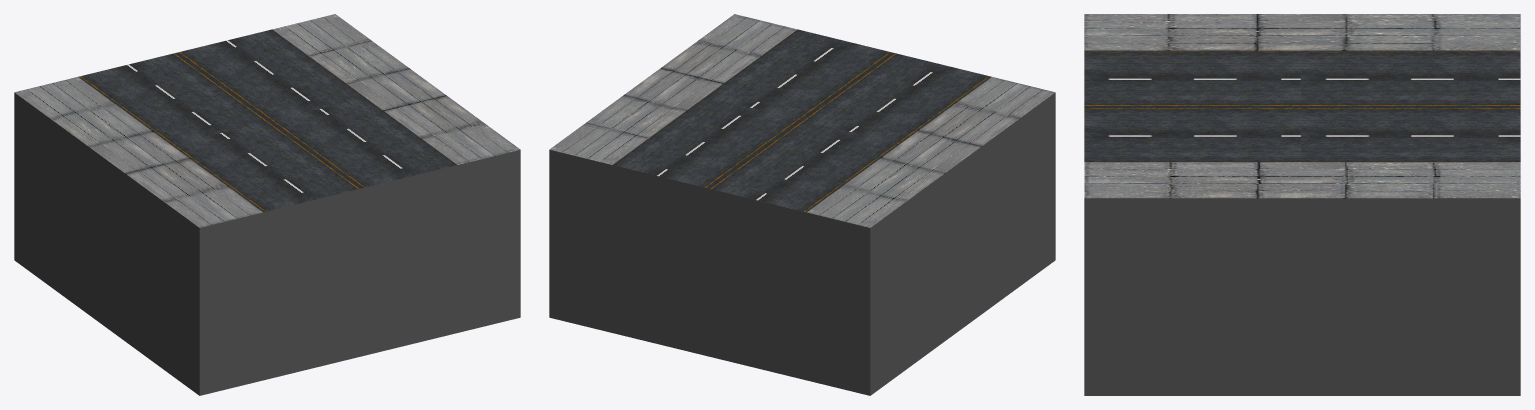
The model's file is Road_1.fbx.
The picture shows the model from 3 angles, left to right: view 1: azimuth 30°, elevation 25°; view 2: azimuth 150°, elevation 25°; view 3: azimuth 270°, elevation 25°; orthographic projection. The views are drawn at different scales.
Visible parts, largest first — view 1: mqo_mesh.001; view 2: mqo_mesh.001; view 3: mqo_mesh.001.
Boxes of the visible parts, x1,y1,x2,y2 form: mqo_mesh.001: (14, 14, 520, 395); mqo_mesh.001: (549, 14, 1055, 395); mqo_mesh.001: (1084, 14, 1520, 395).
Bounding box in the file's own units: 5000 × 2500 × 5000.
